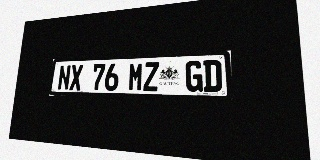6: (104, 63, 119, 91)
7: (91, 64, 106, 91)
D: (203, 60, 222, 92)
G: (185, 60, 203, 92)
M: (128, 62, 144, 91)
N: (57, 65, 71, 90)
X: (69, 65, 83, 91)
Z: (143, 62, 159, 91)
